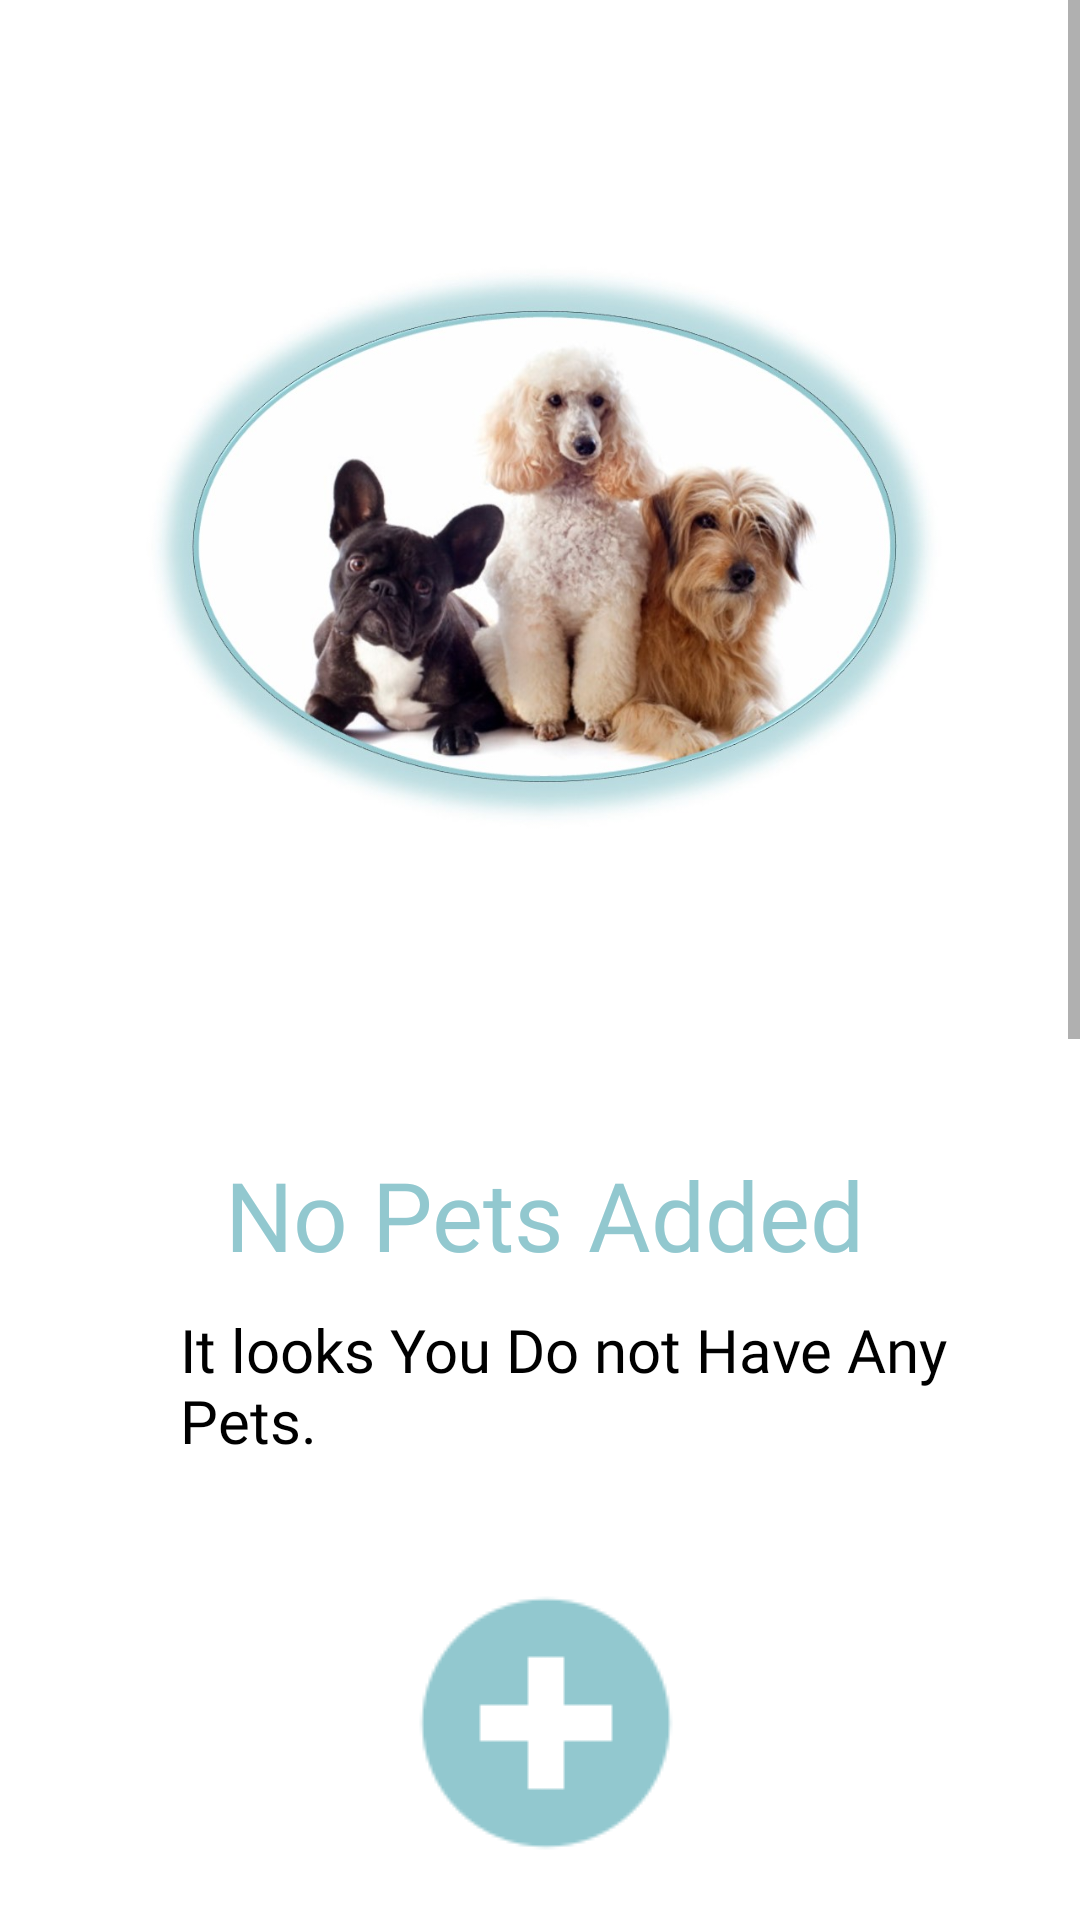

Screen size 1080×1920. Icon name, then its box in pixels as detection(x1, y1, x2, y2):
plus: detection(422, 1599, 671, 1848)
